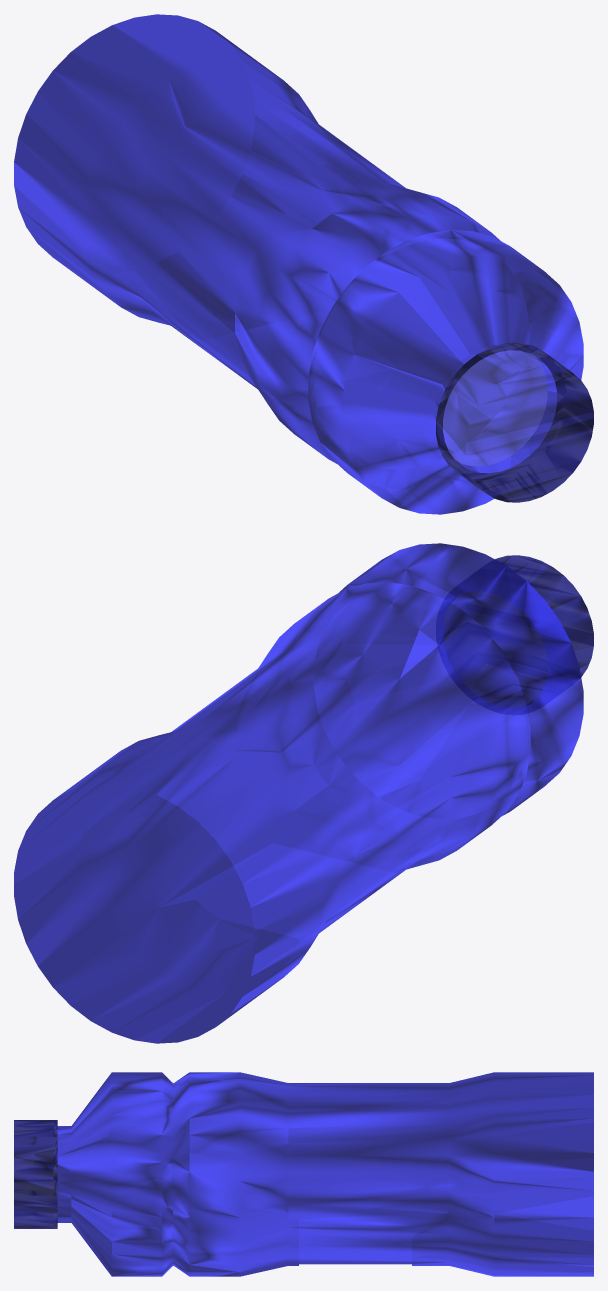
Rendered from model_align.obj.
The picture shows the model from 3 angles, top to bottom: view 1: azimuth 30°, elevation 25°; view 2: azimuth 150°, elevation 25°; view 3: azimuth 270°, elevation 25°; orthographic projection. The views are drawn at different scales.
Size of the model in its own units: 0.0818 by 0.0822 by 0.2326.
